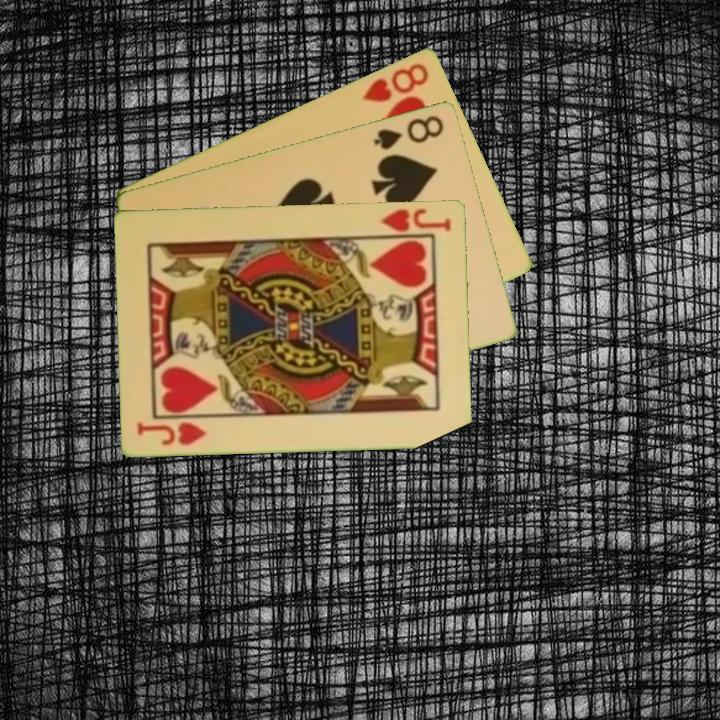8h: (358, 58, 432, 105)
8s: (370, 111, 447, 152)
Jh: (377, 204, 455, 234), (134, 418, 210, 448)
